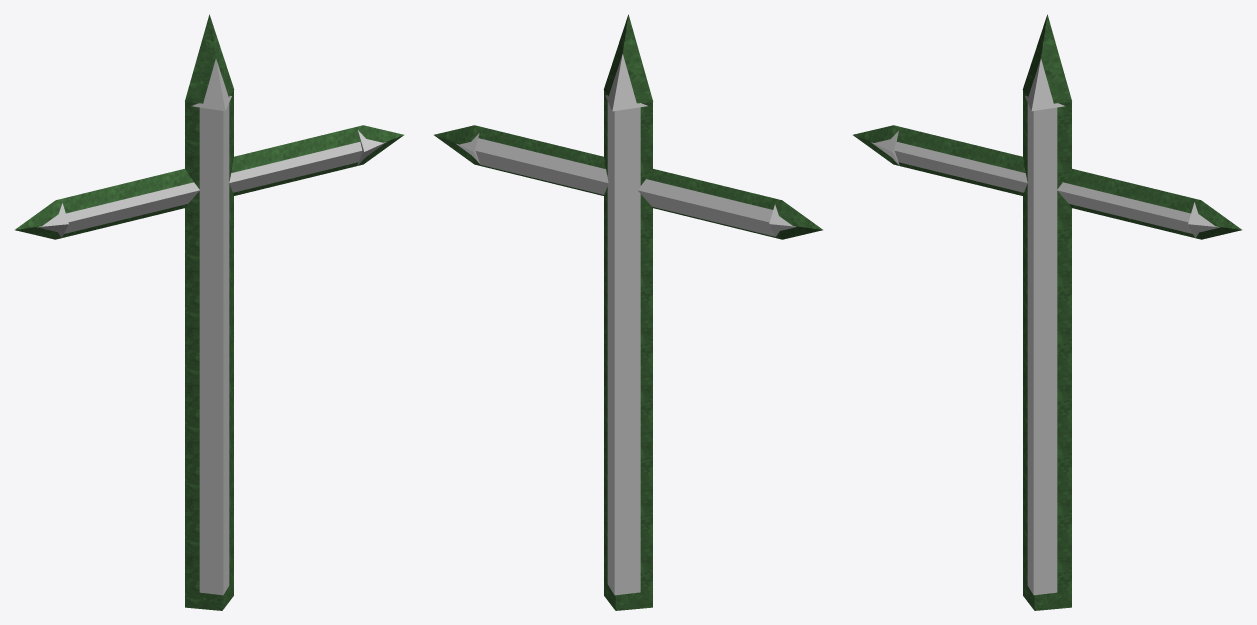
The model's file is L7_Cruz.dae.
3 views of the same model, side by side, from view 1: azimuth 30°, elevation 25°; view 2: azimuth 150°, elevation 25°; view 3: azimuth 330°, elevation 25° (orthographic).
Visible parts, largest first — view 1: blade_middle_half (×6), blade_top (×4); view 2: blade_middle_half (×6), blade_top (×4); view 3: blade_middle_half (×6), blade_top (×4).
Boxes of the visible parts, x1,y1,x2,y2 form: blade_middle_half (×6): (55,90,365,610); blade_top (×4): (15,14,403,239); blade_middle_half (×6): (471,90,782,610); blade_top (×4): (434,14,822,239); blade_middle_half (×6): (891,90,1201,610); blade_top (×4): (853,14,1241,239).
Bounding box in the file's own units: 7.14 × 10.28 × 1.02.
Materials: 2 (1 with a texture image).
